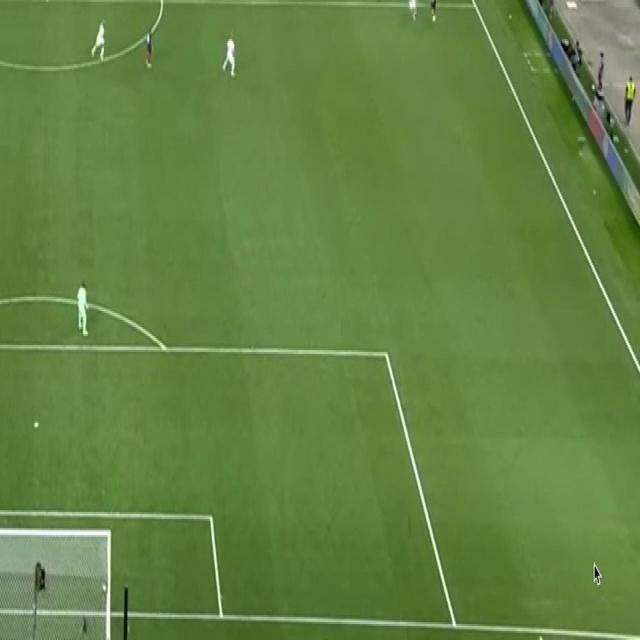ball: (591, 82, 596, 90)
player-white: (76, 278, 90, 338), (221, 31, 237, 80), (91, 18, 106, 62), (144, 26, 154, 70), (407, 0, 419, 23), (426, 0, 436, 22)
